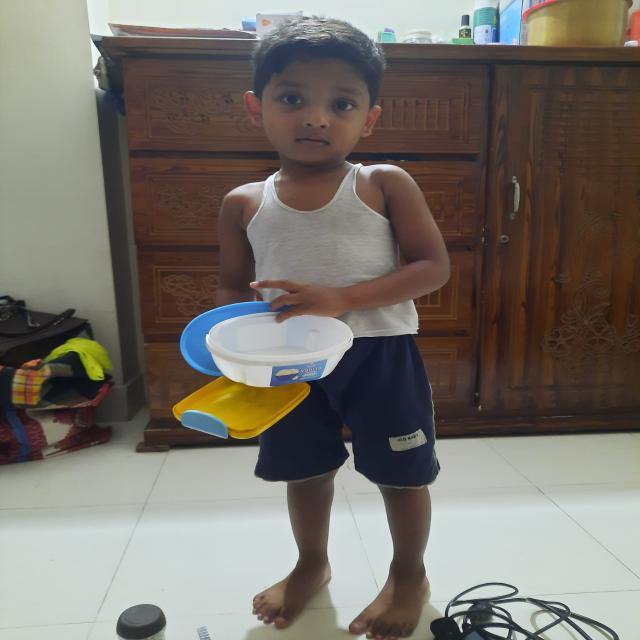Cable: (439, 576, 630, 640)
Plastics: (152, 298, 346, 438)
